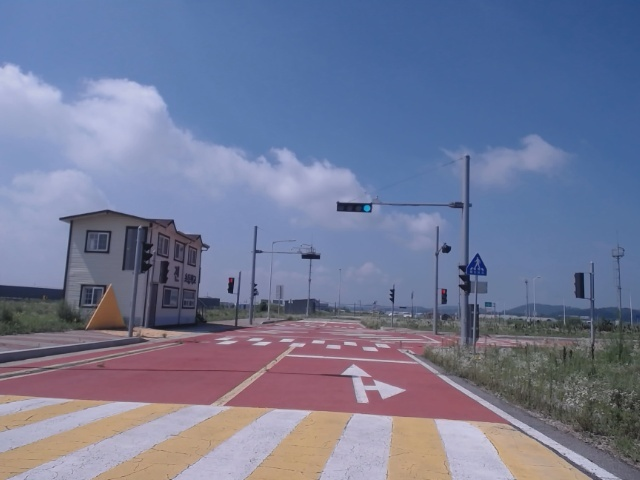straight_green_4: (337, 202, 372, 213)
